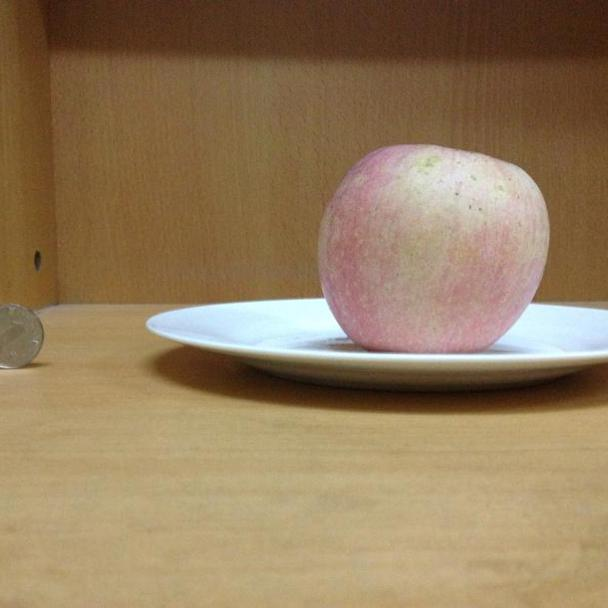apple: (314, 142, 551, 354)
